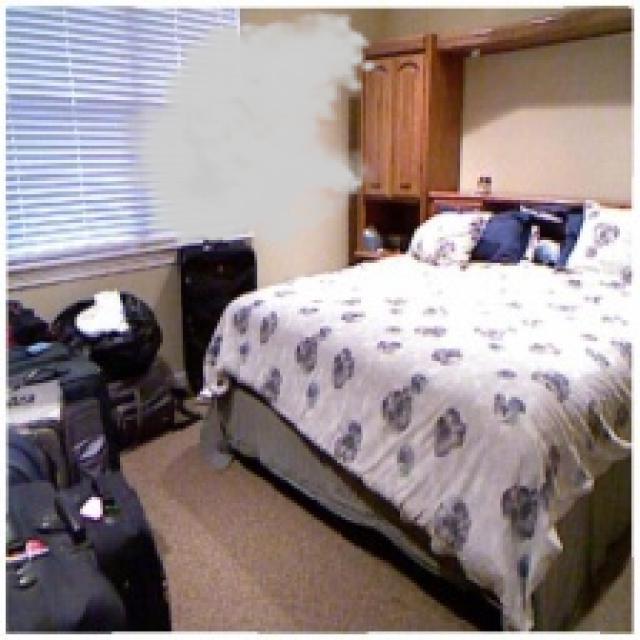Smoke: (108, 8, 380, 263)
